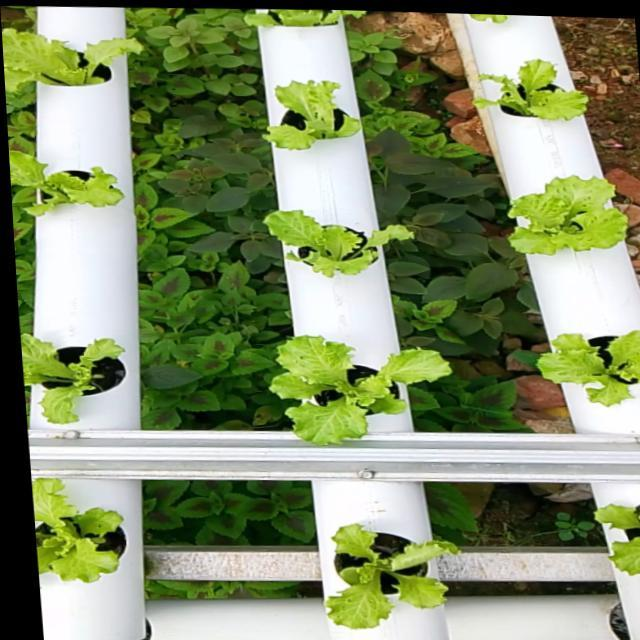Baby: (275, 335, 455, 441), (331, 519, 464, 623), (32, 476, 135, 591), (20, 331, 134, 423), (267, 212, 415, 277), (509, 176, 627, 255), (2, 33, 145, 97), (9, 151, 130, 218), (538, 328, 640, 403), (473, 62, 587, 122), (267, 83, 364, 152), (598, 500, 640, 570)
